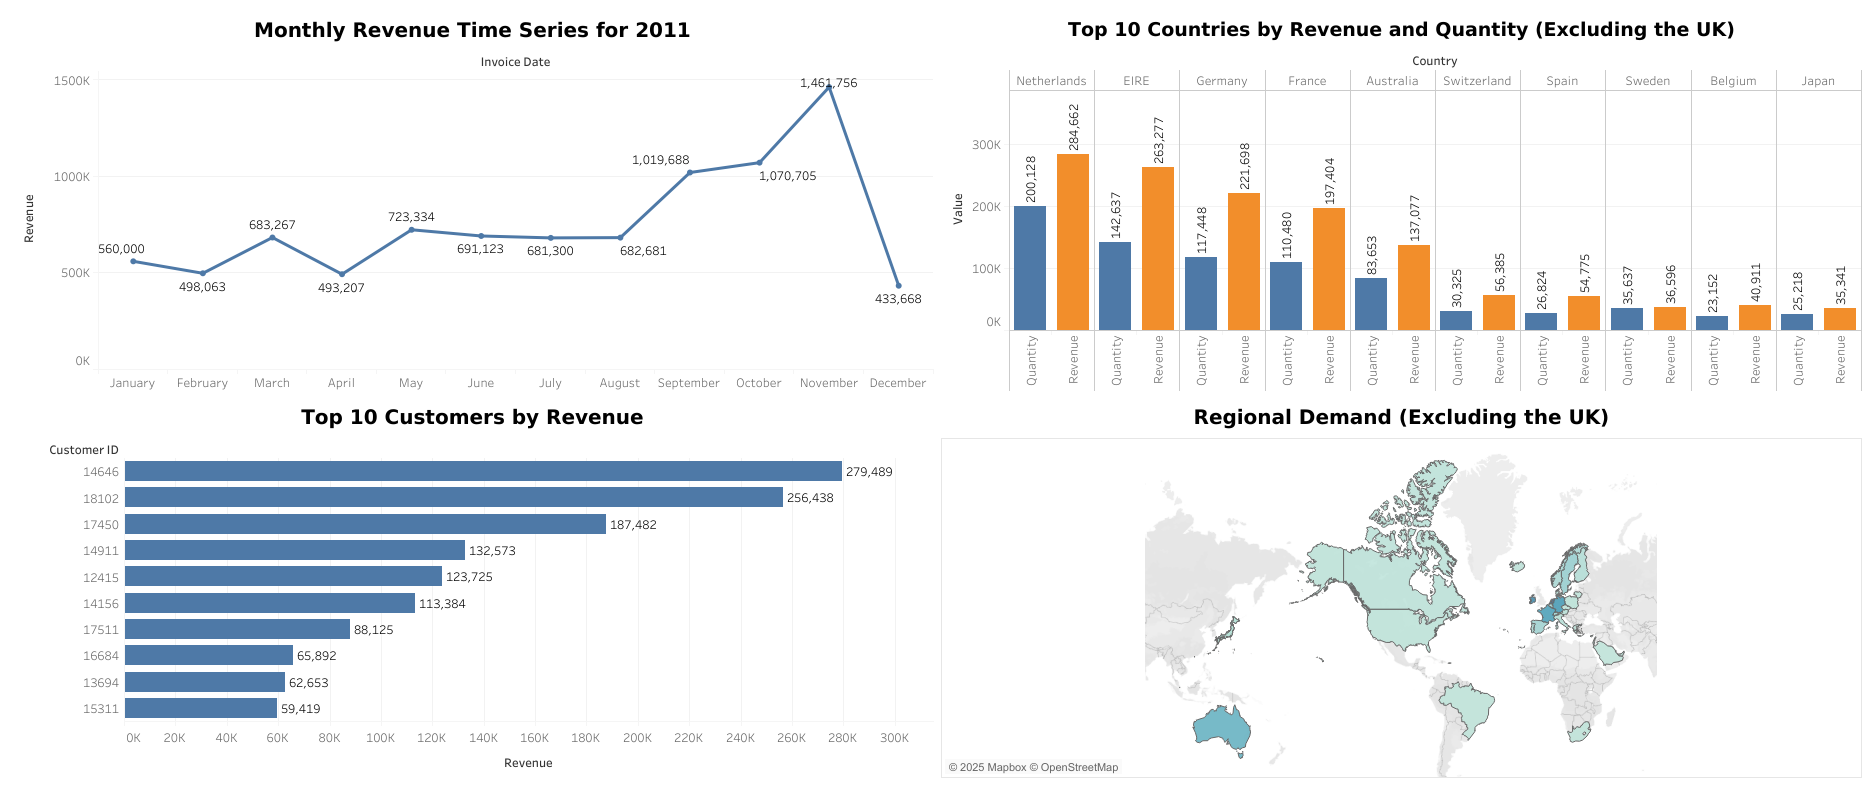

The dashboard page shown, as its layout file describes it:
{"tool":"tableau","page":{"name":"Dashboard 1","canvas":[1000,1000],"units":"permille","ordinal":0},"visuals":[{"type":"worksheet","title":"Question 1","mark":"Line","rows":["Calculation_134263592243474432"],"cols":["InvoiceDate"],"box":[4.7,9.3,448.5,490.7]},{"type":"worksheet","title":"Question 2","mark":"Automatic","cols":["Country"],"box":[453.2,9.3,448.5,490.7]},{"type":"legend","title":"Question 2","param":"[federated.1r8jj0g00vhybu1elk3b90k0iyq3].[:Measure Names]","box":[901.7,9.3,93.6,76.4]},{"type":"legend","title":"Question 4","param":"[federated.1r8jj0g00vhybu1elk3b90k0iyq3].[sum:Quantity:qk]","box":[901.7,85.7,93.6,75.2]},{"type":"worksheet","title":"Question 3","mark":"Bar","rows":["CustomerID"],"cols":["Calculation_134263592243474432"],"box":[4.7,500,448.5,490.7]},{"type":"worksheet","title":"Question 4","mark":"Automatic","box":[453.2,500,448.5,490.7]}]}

Visuals, with their boxes on the dashboard's canvas, which has no fixed pixel size, in thousandths of its width and height (x1, y1, x2, y2). These are canvas units, not pixel positions in the 1873x789 screenshot, which may show the page scaled, cropped or inside an application window:
"Question 1" worksheet (Line marks): rect(5, 9, 453, 500)
"Question 2" worksheet: rect(453, 9, 902, 500)
"Question 2" legend: rect(902, 9, 995, 86)
"Question 4" legend: rect(902, 86, 995, 161)
"Question 3" worksheet (Bar marks): rect(5, 500, 453, 991)
"Question 4" worksheet: rect(453, 500, 902, 991)
